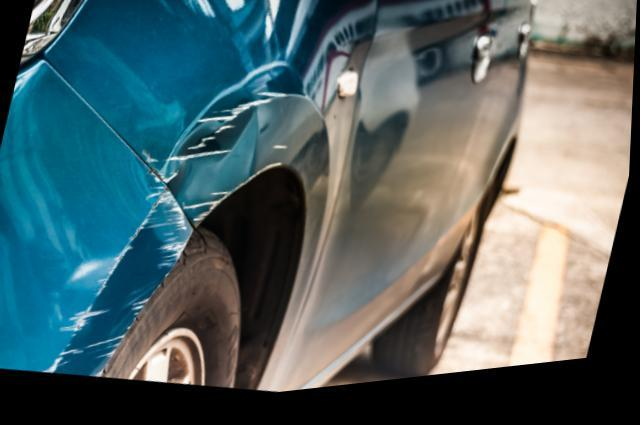scratch: (37, 158, 196, 379), (138, 95, 292, 235)
